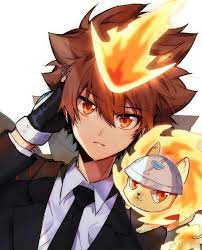Tsuna: (62, 13, 167, 162)
